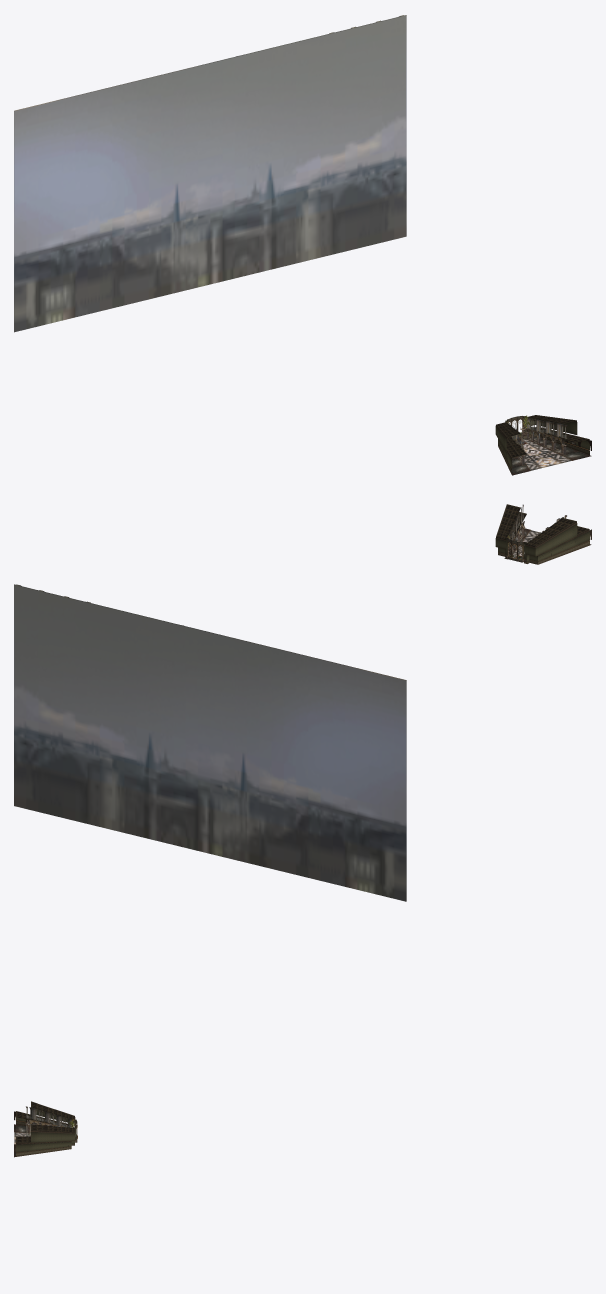
File: stageProb.fbx
3 renders of one model, top to bottom at view 1: azimuth 30°, elevation 25°; view 2: azimuth 150°, elevation 25°; view 3: azimuth 270°, elevation 25°, orthographic. The views are drawn at different scales.
Visible parts, largest first — view 1: Guild_Lobby02_a_01_far, Guild_Lobby02_prop_01, Guild_Lobby02_floor, Guild_Lobby02_prop_02; view 2: Guild_Lobby02_a_01_far, Guild_Lobby02_prop_01; view 3: Guild_Lobby02_prop_01, Guild_Lobby02_prop_02.
Boxes of the visible parts, bbox=[...] form: Guild_Lobby02_a_01_far: bbox=[14, 15, 406, 332]; Guild_Lobby02_prop_01: bbox=[495, 415, 591, 475]; Guild_Lobby02_floor: bbox=[520, 439, 571, 470]; Guild_Lobby02_prop_02: bbox=[506, 416, 567, 449]; Guild_Lobby02_a_01_far: bbox=[14, 584, 406, 901]; Guild_Lobby02_prop_01: bbox=[495, 504, 591, 564]; Guild_Lobby02_prop_01: bbox=[14, 1101, 77, 1157]; Guild_Lobby02_prop_02: bbox=[26, 1106, 75, 1136].
Bounding box in the file's own units: 169 × 91.65 × 255.
4 materials, 4 textured.
